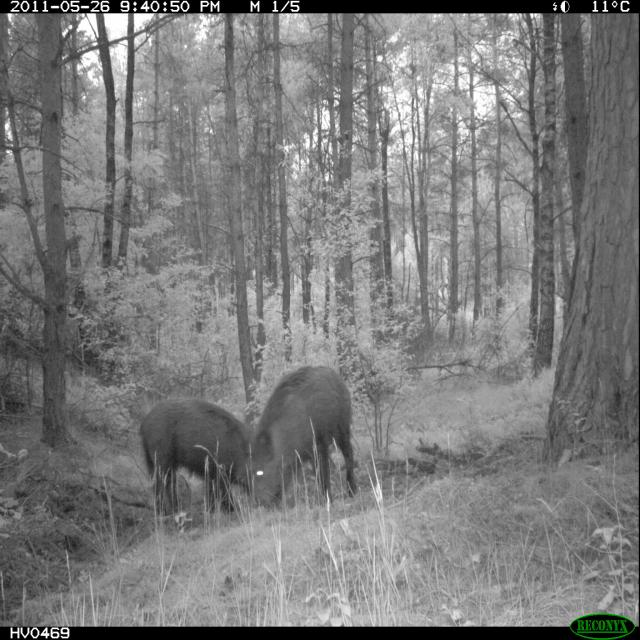boar: (236, 350, 371, 505), (132, 378, 268, 522)
